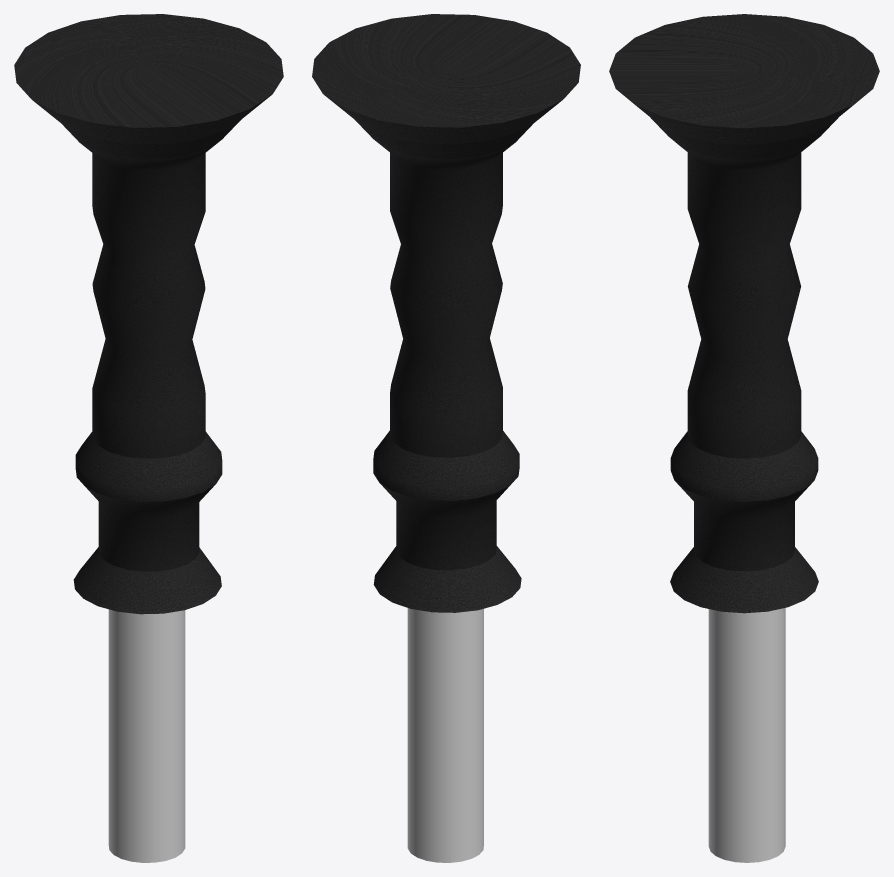
Rendered from Player_Candle.fbx.
3 renders of one model, left to right at view 1: azimuth 30°, elevation 25°; view 2: azimuth 150°, elevation 25°; view 3: azimuth 270°, elevation 25°, orthographic.
Visible parts, largest first — view 1: pCylinder21; view 2: pCylinder21; view 3: pCylinder21.
Part boxes in pixels (x1,y1,x2,y2): pCylinder21: [14, 14, 283, 862]; pCylinder21: [312, 14, 580, 862]; pCylinder21: [609, 14, 879, 862].
Size of the model in its own units: 2.07 by 6.63 by 2.07.
